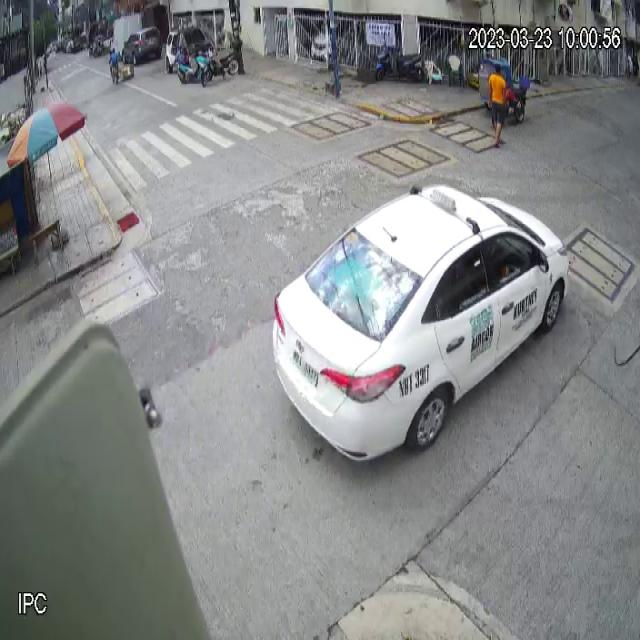Car: (272, 184, 570, 464)
